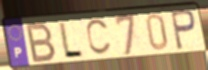0: (144, 12, 170, 53)
7: (112, 11, 138, 58)
B: (25, 21, 58, 65)
C: (84, 17, 113, 57)
L: (57, 21, 85, 59)
P: (169, 8, 198, 52)
